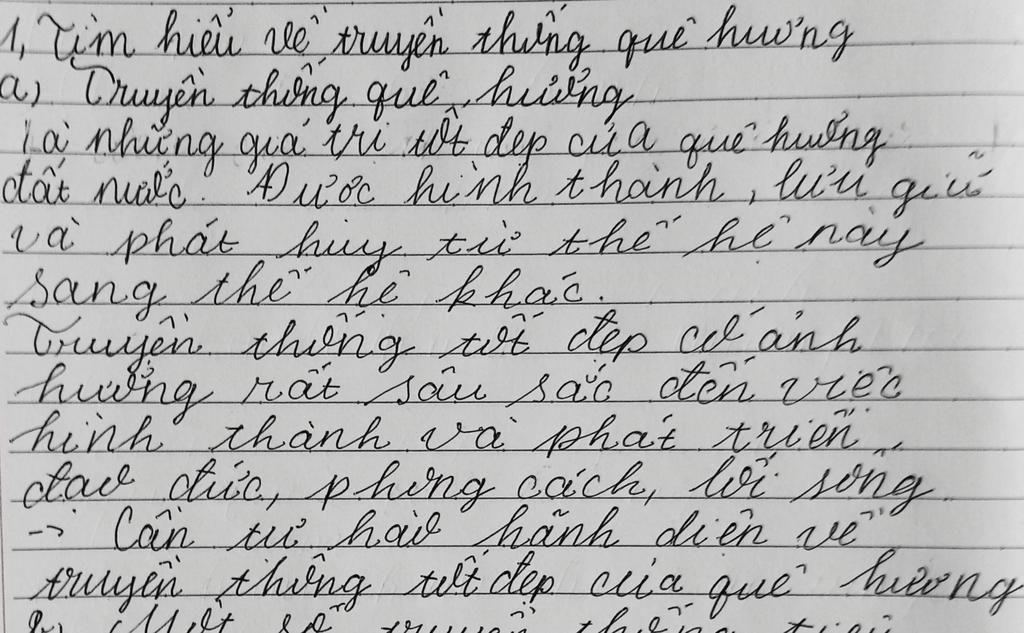text: (0, 147, 995, 221), (27, 547, 1024, 615), (19, 105, 889, 180), (18, 445, 937, 516), (13, 354, 904, 426), (1, 303, 865, 375), (0, 1, 855, 73), (6, 214, 926, 275), (7, 404, 869, 460), (25, 503, 884, 557), (0, 60, 637, 128), (2, 261, 585, 324), (16, 605, 907, 633)
